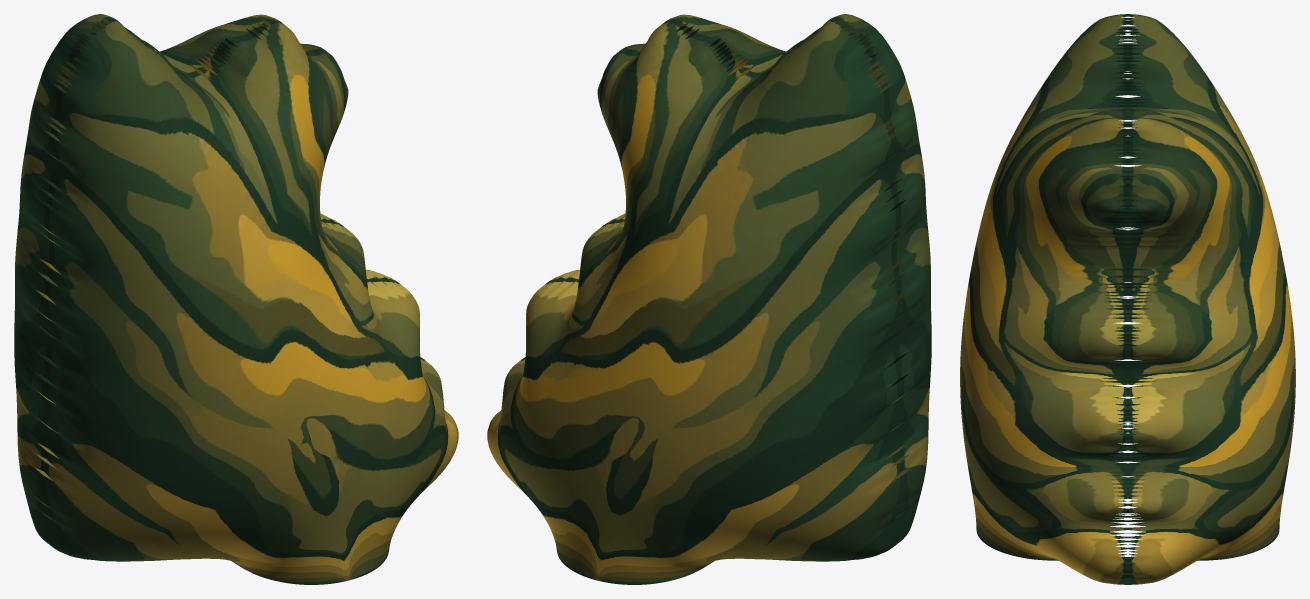
The model's file is cavern_wall.glb.
3 views of the same model, side by side, from view 1: azimuth 30°, elevation 25°; view 2: azimuth 150°, elevation 25°; view 3: azimuth 270°, elevation 25° (orthographic). The views are drawn at different scales.
Visible parts, largest first — view 1: cavern_wall; view 2: cavern_wall; view 3: cavern_wall.
Part boxes in pixels (x1,y1,x2,y2): cavern_wall: [14, 14, 458, 584]; cavern_wall: [487, 14, 931, 584]; cavern_wall: [960, 14, 1295, 584].
Size of the model in its own units: 0.9862 by 1.24 by 0.8319.
1 material, 1 textured.
